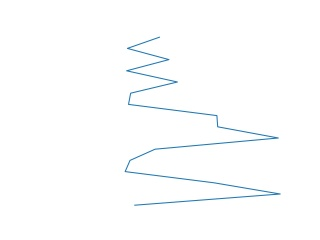majorRiverBedLagDeposit: (120, 35, 282, 210)
